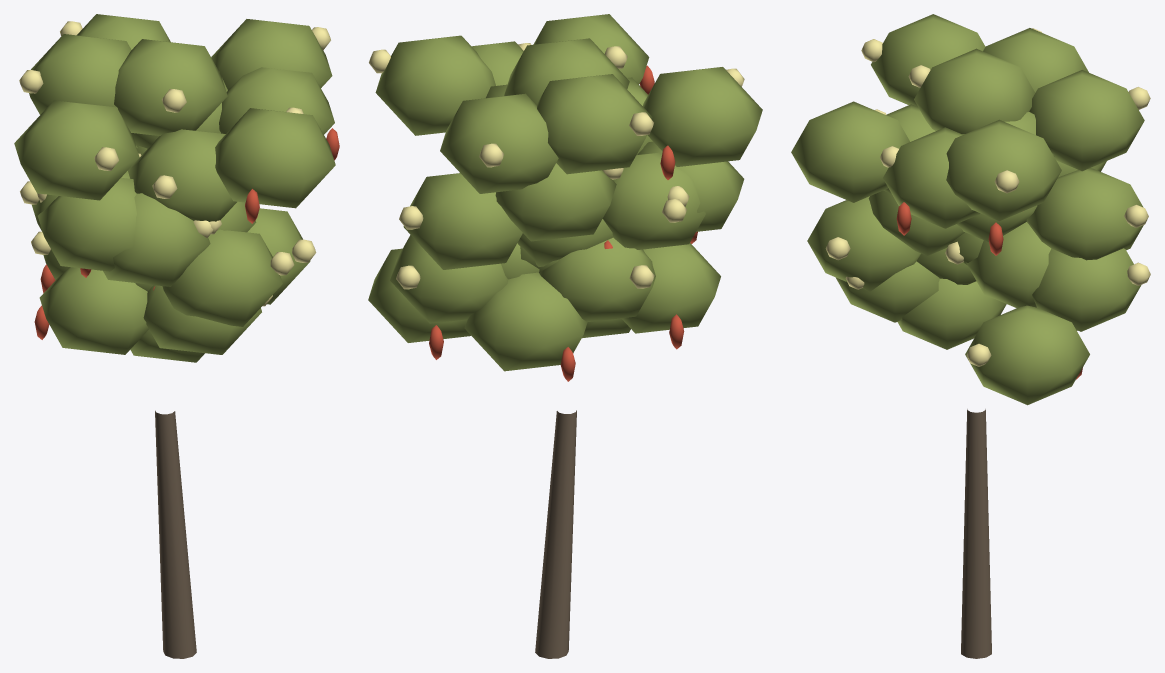
Rendered from young-a.lod0.glb.
3 renders of one model, left to right at view 1: azimuth 30°, elevation 25°; view 2: azimuth 150°, elevation 25°; view 3: azimuth 270°, elevation 25°, orthographic. The views are drawn at different scales.
Parts seen in each view (by area): view 1: foliage, bark, flowers, fruit; view 2: foliage, bark, flowers, fruit; view 3: foliage, bark, flowers, fruit.
Part boxes in pixels (x1=…): foliage: x1=14, y1=14, x2=335, y2=362; bark: x1=155, y1=410, x2=196, y2=658; flowers: x1=19, y1=21, x2=330, y2=306; fruit: x1=34, y1=128, x2=339, y2=339; foliage: x1=368, y1=14, x2=762, y2=371; bark: x1=535, y1=410, x2=576, y2=658; flowers: x1=369, y1=43, x2=744, y2=289; fruit: x1=429, y1=65, x2=697, y2=381; foliage: x1=791, y1=14, x2=1144, y2=405; bark: x1=961, y1=409, x2=991, y2=658; flowers: x1=825, y1=28, x2=1150, y2=366; fruit: x1=896, y1=202, x2=1082, y2=379.
Size of the model in its own units: 1.78 by 3 by 1.66.
